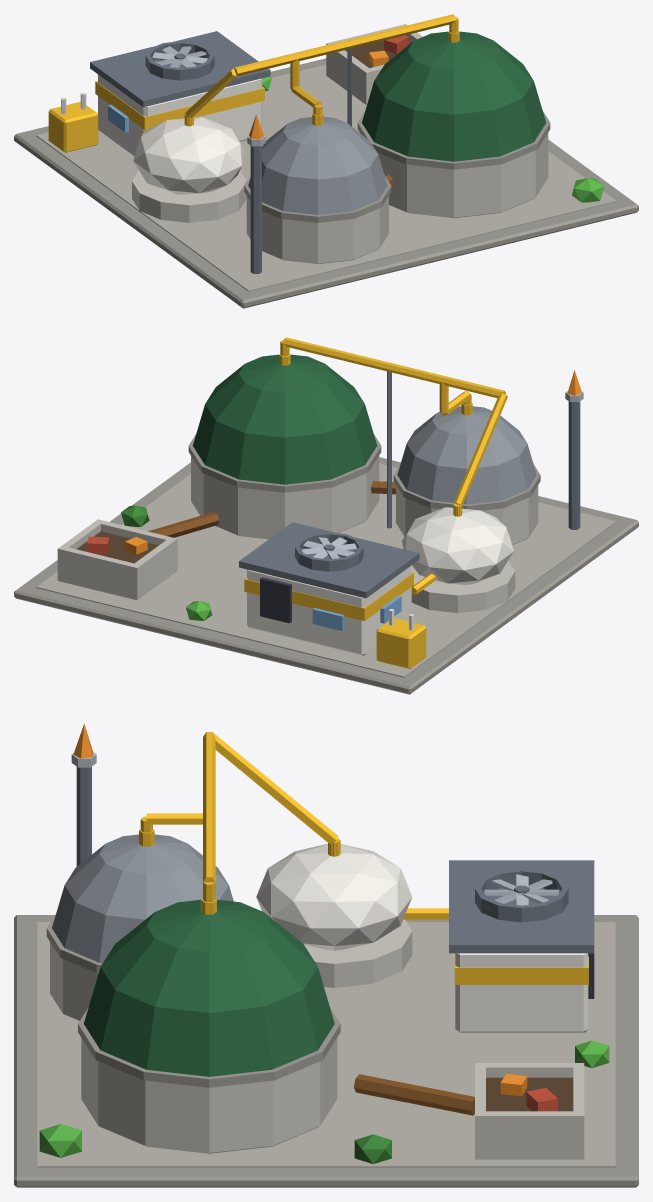
File: biodigester.glb
3 renders of one model, top to bottom at view 1: azimuth 30°, elevation 25°; view 2: azimuth 150°, elevation 25°; view 3: azimuth 270°, elevation 25°, orthographic. The views are drawn at different scales.
Visible parts, largest first — view 1: corpo, gira_1.001; view 2: corpo, gira_1.001; view 3: corpo, gira_1.001.
Part boxes in pixels (x1,y1,x2,y2): corpo: [14, 14, 638, 308]; gira_1.001: [152, 46, 207, 67]; corpo: [14, 337, 638, 694]; gira_1.001: [301, 537, 357, 559]; corpo: [14, 724, 638, 1187]; gira_1.001: [484, 874, 559, 905].
Bounding box in the file's own units: 4 × 1.66 × 4.
